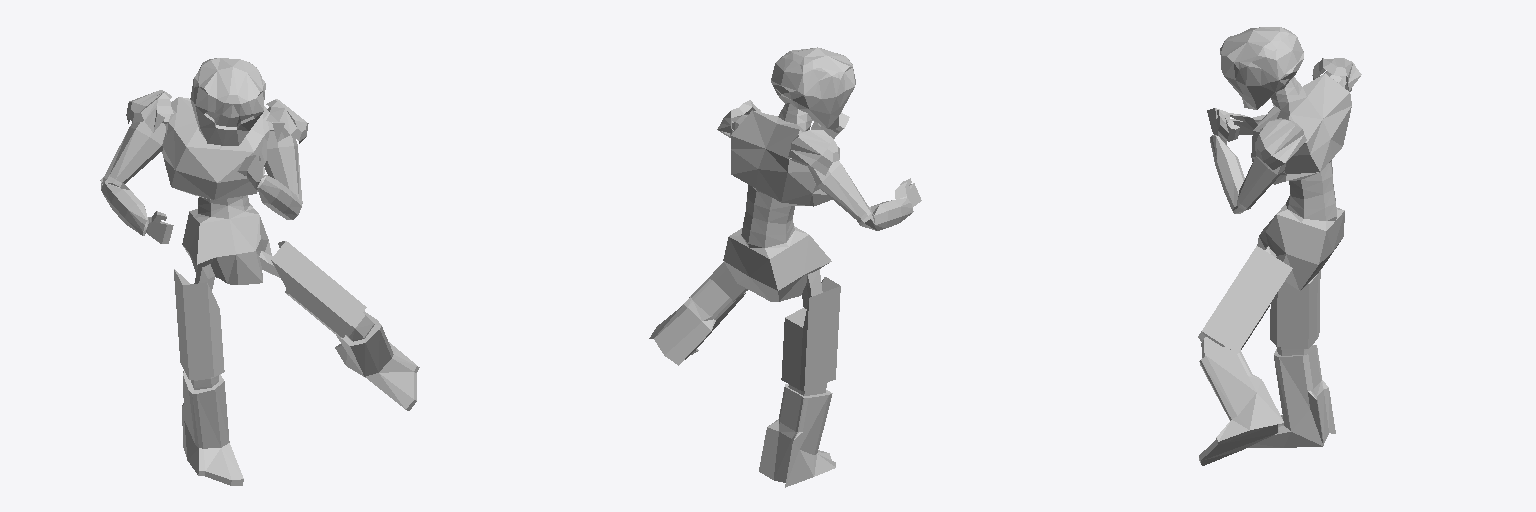
Rendered from Shputnik-Kick1.obj.
The picture shows the model from 3 angles: view 1: azimuth 30°, elevation 25°; view 2: azimuth 150°, elevation 25°; view 3: azimuth 270°, elevation 25°; orthographic projection.
Parts seen in each view (by area): view 1: Shputnik_Mesh; view 2: Shputnik_Mesh; view 3: Shputnik_Mesh.
Part boxes in pixels (x1,y1,x2,y2): Shputnik_Mesh: (100,58,419,485); Shputnik_Mesh: (649,47,921,487); Shputnik_Mesh: (1198,27,1361,465).
Bounding box in the file's own units: 8.03 × 12.02 × 4.3.